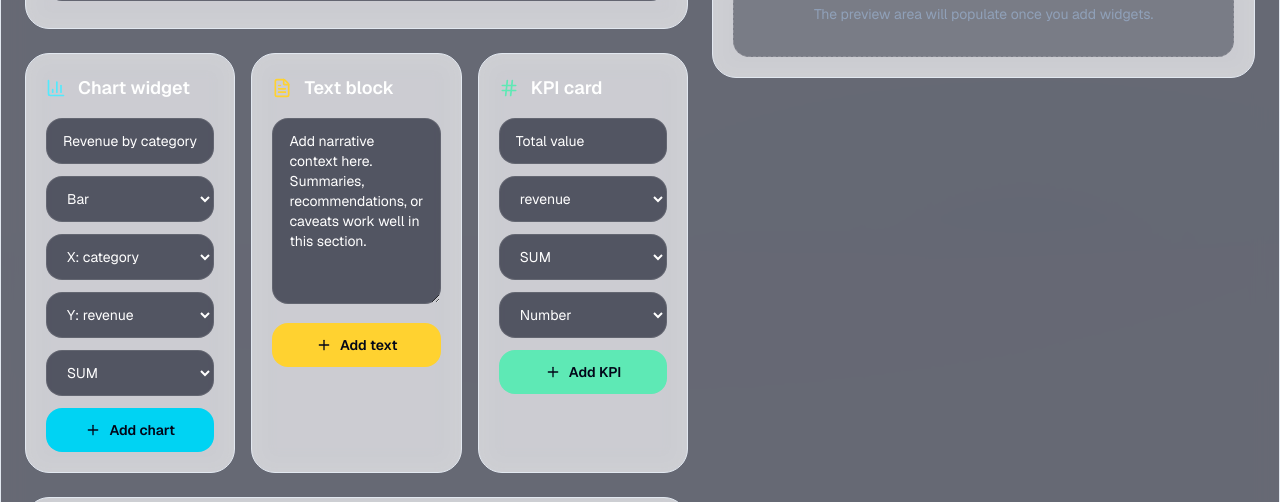
it: ReportBuilder › exports a standalone HTML report
This screenshot has width=1280, height=502.
(page scrolled)
Click the button "Add chart". click: (130, 430)
box: [46, 408, 214, 452]
(page scrolled)
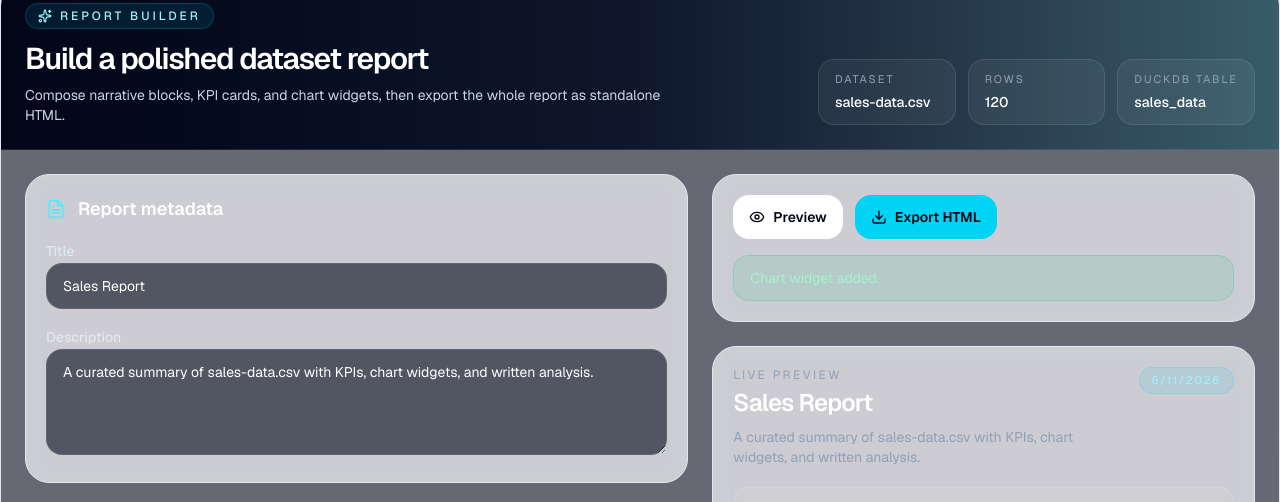
Click the button "Export HTML". click: (926, 217)
box: [855, 195, 997, 239]
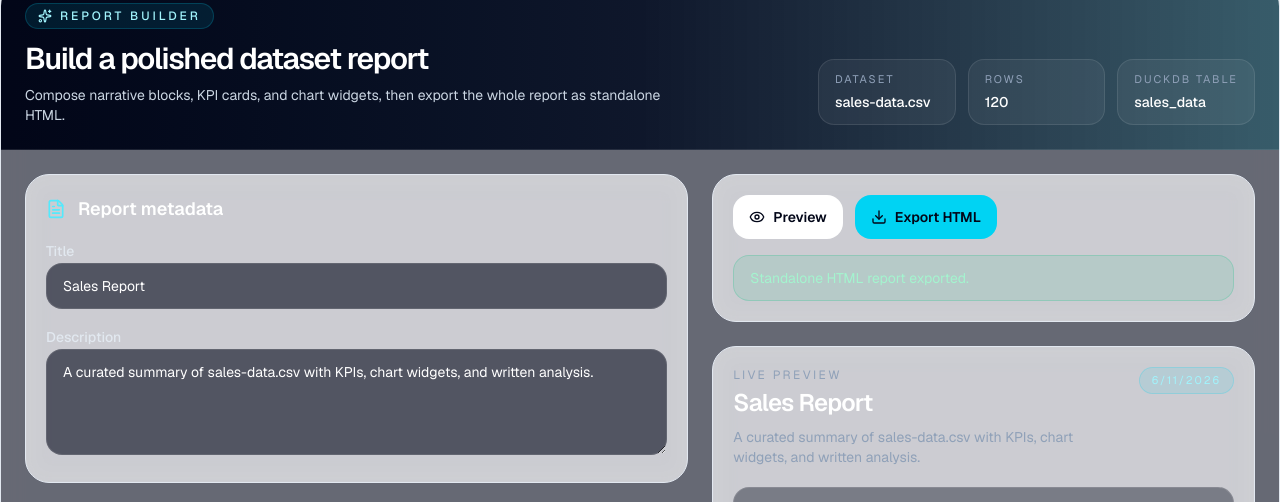
Check: the text "Standalone HTML report exported." is shown, box [733, 255, 1234, 301]
